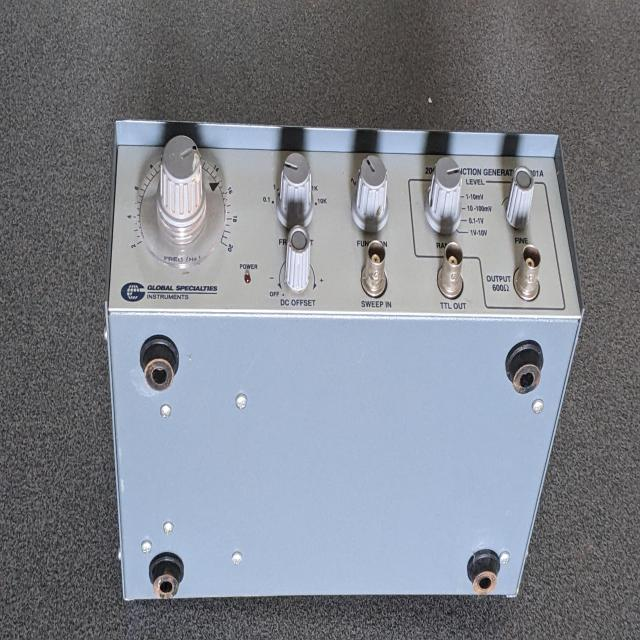A 200KHZ Function Generator: (105, 118, 585, 610)
